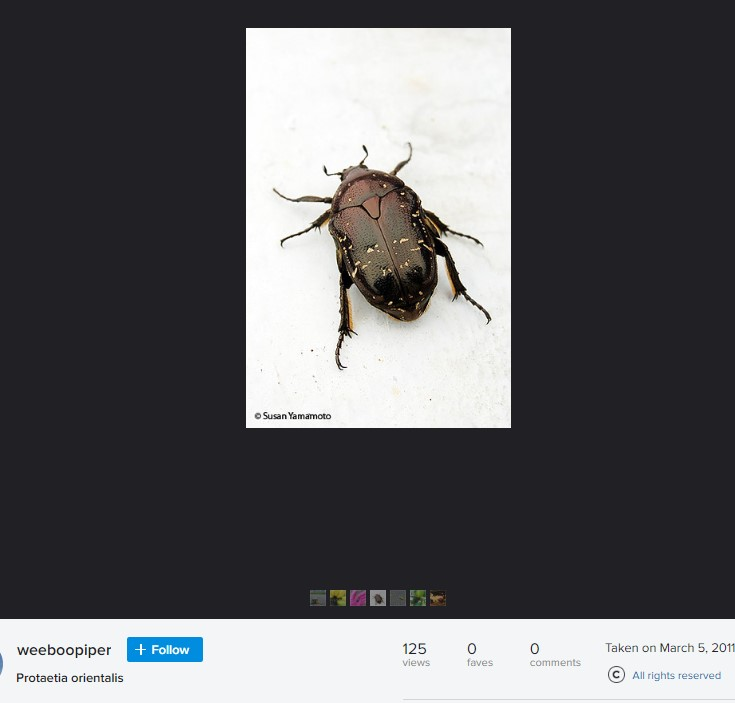Protaetia _orientalis: (269, 142, 497, 360)
